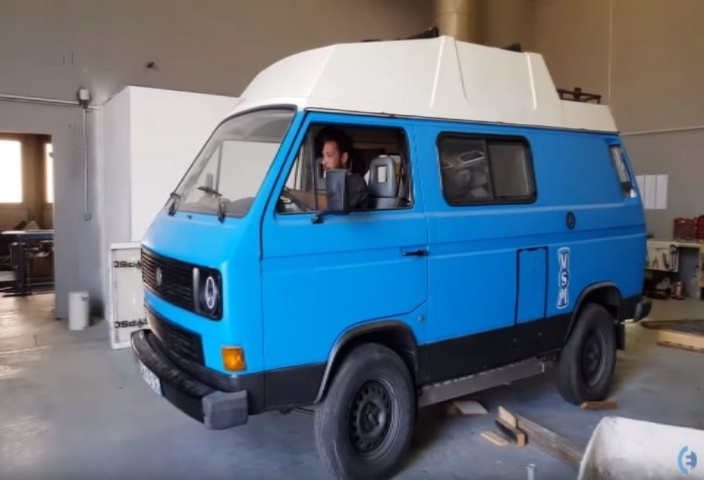van: (141, 39, 669, 473)
